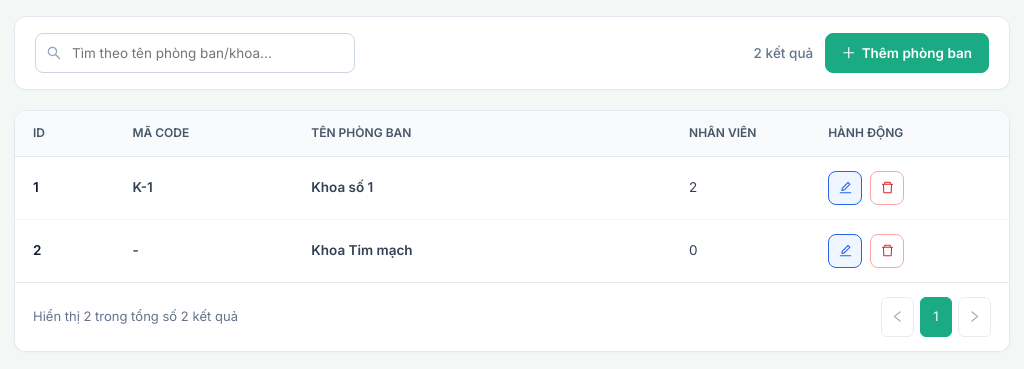
Test: ReferenceDepartmentsListPage - danh sách › tìm theo tên phòng ban
This screenshot has width=1024, height=369.
Expected: the text "Khoa số 1" is shown, [311,179,373,195]
In the field with placeholder "Tìm theo tên phòng ban/khoa...": (195, 53) [35,33,355,73], type "tim mạch"
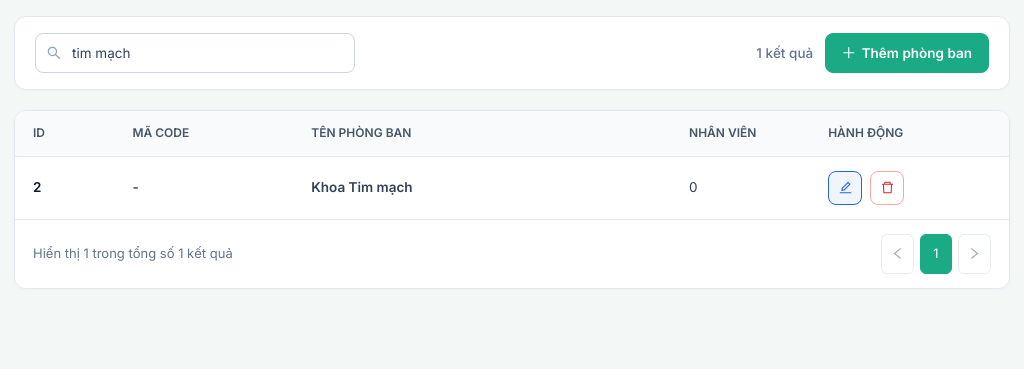
Expected: the text "Khoa Tim mạch" is shown, [311,179,413,195]
Expected: the text "Khoa số 1" is gone
Replace the text in the field with placeholder "Tìm theo tên phòng ban/khoa..." with "không có": (195, 53) [35,33,355,73]
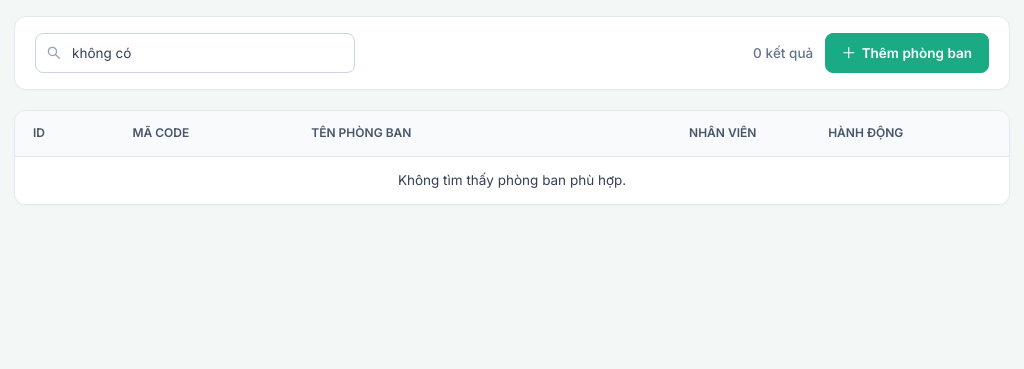
Expected: the text "Không tìm thấy phòng ban phù hợp." is shown, [15,156,1009,204]
